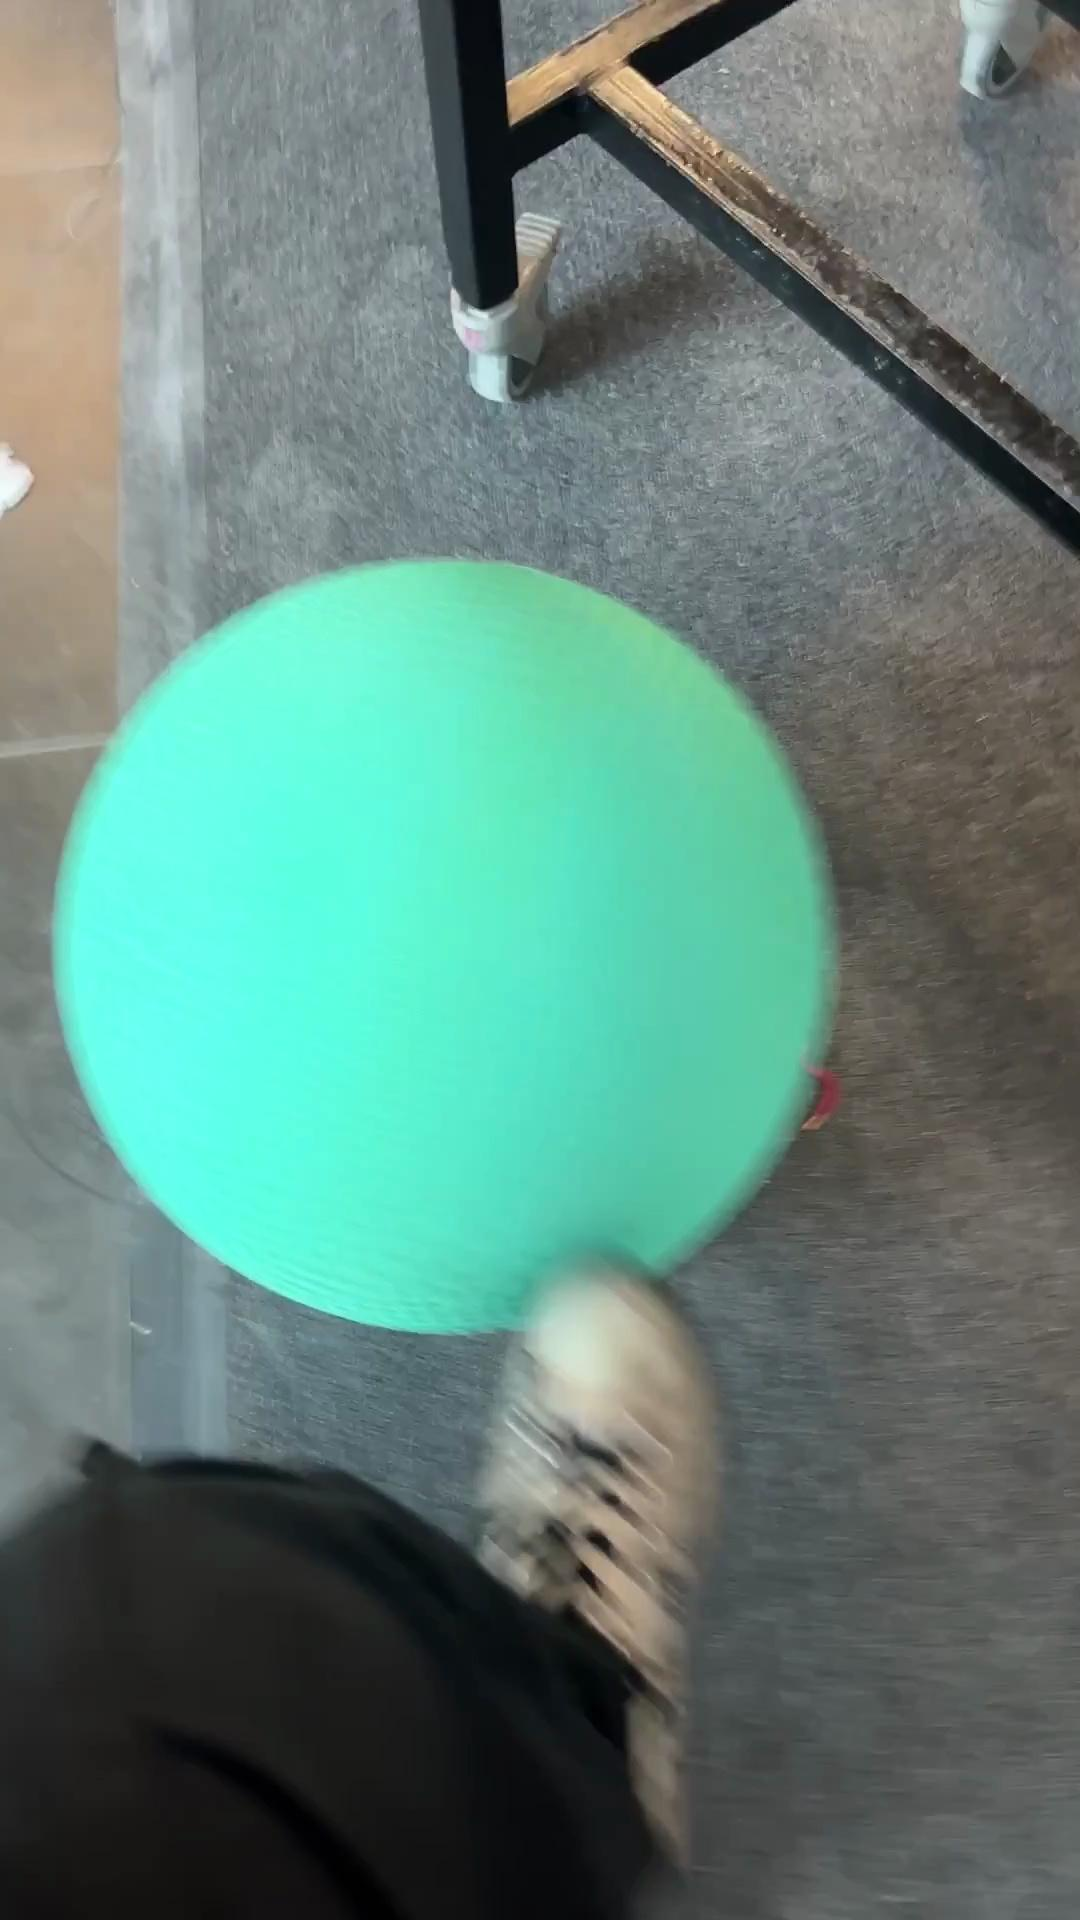ALGAE: (48, 553, 843, 1338)
